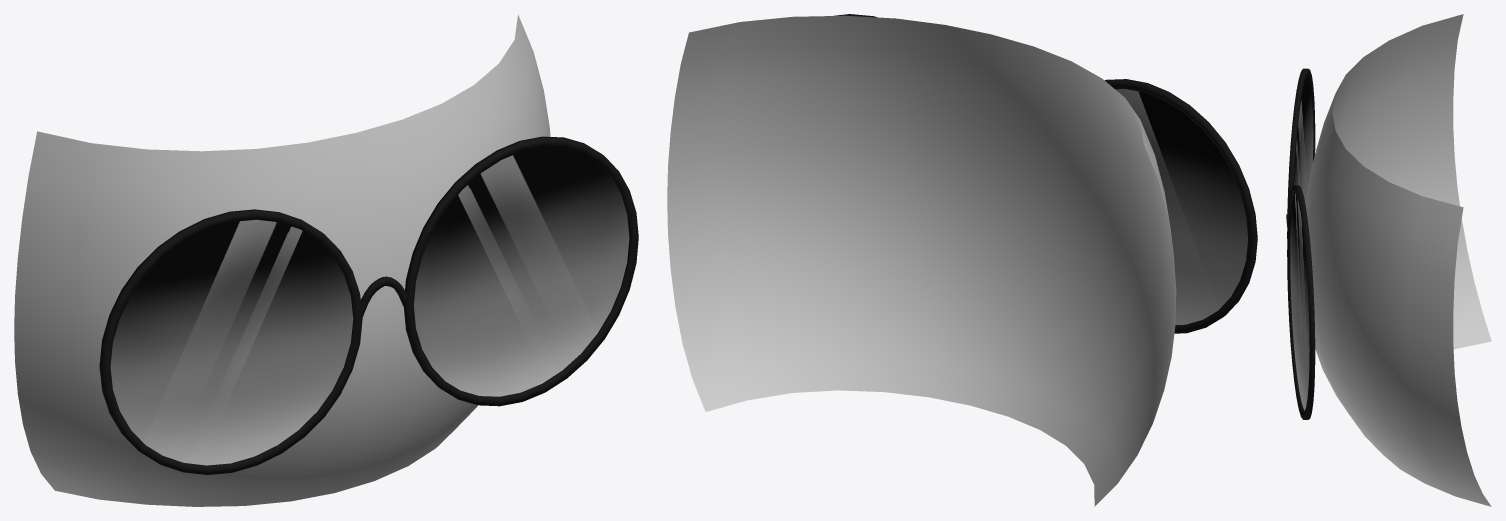
Rendered from Round Shades Face.fbx.
3 renders of one model, left to right at view 1: azimuth 30°, elevation 25°; view 2: azimuth 150°, elevation 25°; view 3: azimuth 270°, elevation 25°, orthographic. The views are drawn at different scales.
Visible parts, largest first — view 1: Round Shades Face; view 2: Round Shades Face; view 3: Round Shades Face.
Part boxes in pixels (bbox=[...]): Round Shades Face: bbox=[14, 14, 638, 506]; Round Shades Face: bbox=[667, 14, 1257, 506]; Round Shades Face: bbox=[1286, 14, 1491, 506].
Size of the model in its own units: 55.82 by 37.73 by 22.42.
